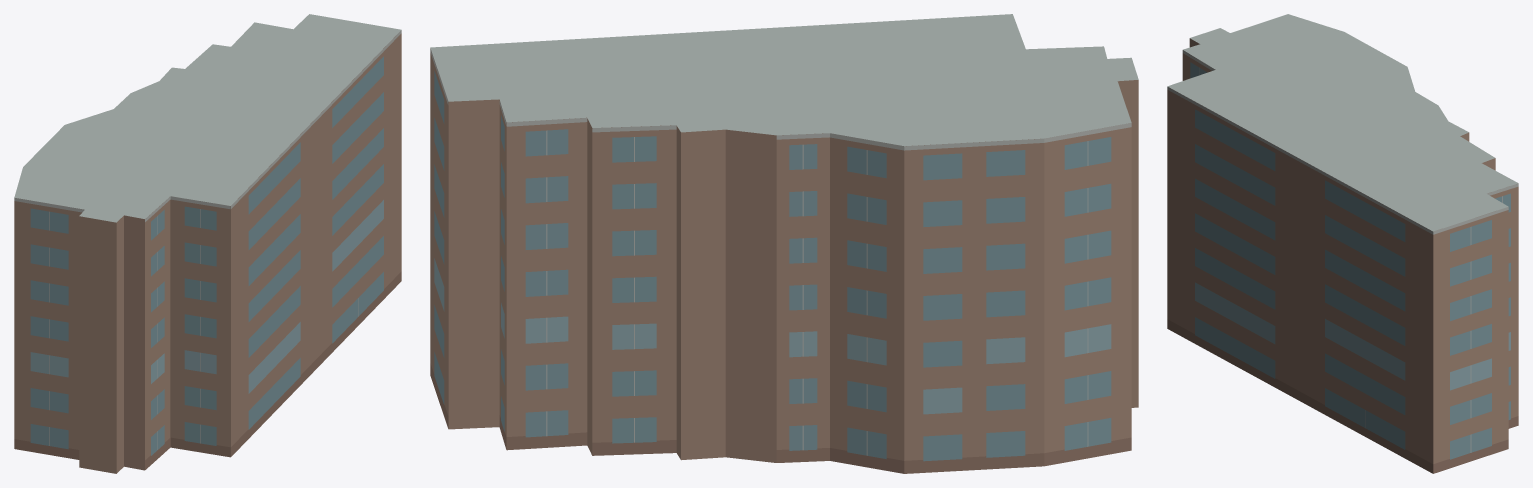
File: survey-upis-32978823.glb
The picture shows the model from 3 angles, left to right: view 1: azimuth 30°, elevation 25°; view 2: azimuth 150°, elevation 25°; view 3: azimuth 270°, elevation 25°; orthographic projection. The views are drawn at different scales.
Visible parts, largest first — view 1: survey-upis-32978823.tmp; view 2: survey-upis-32978823.tmp; view 3: survey-upis-32978823.tmp.
Boxes of the visible parts, <box> form: survey-upis-32978823.tmp: <box>14,14,401,473</box>; survey-upis-32978823.tmp: <box>430,14,1138,473</box>; survey-upis-32978823.tmp: <box>1167,14,1518,473</box>.
Size of the model in its own units: 35.64 by 18.5 by 24.33.
